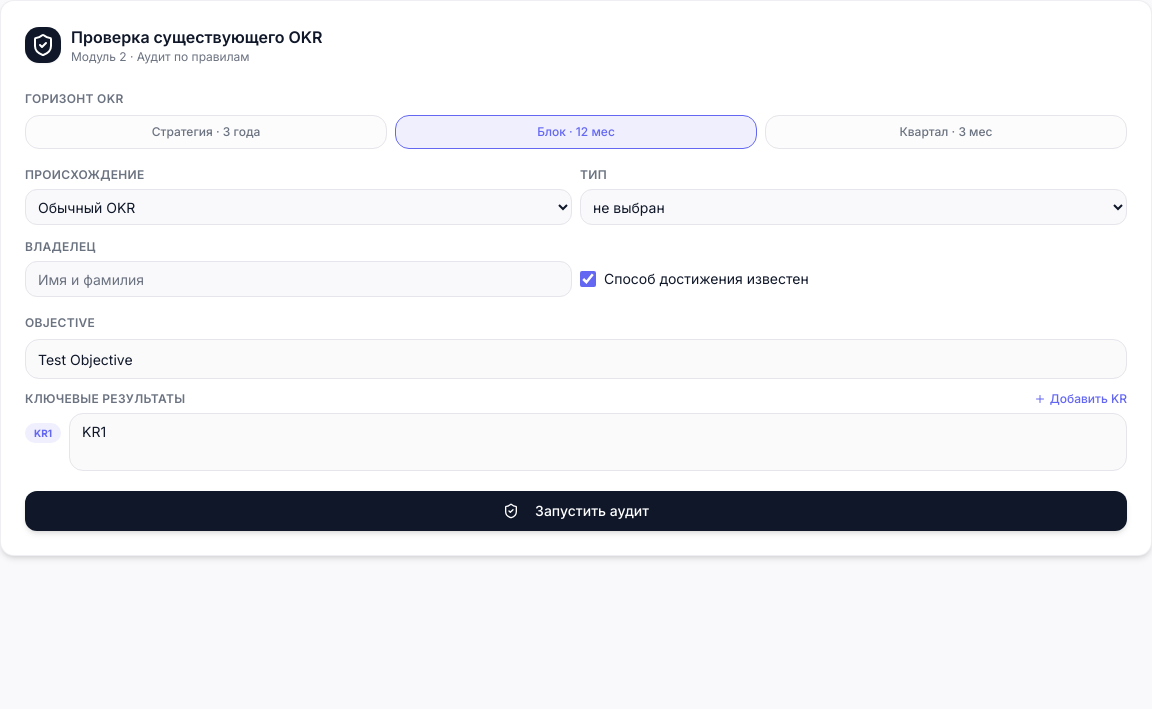
Scenario: OkrValidator (Module 2) › рендерит warning-баннер при audit_unreliable=true
The image size is (1152, 709).
Click the button "Запустить аудит" at (576, 511), box [25,491,1127,531]
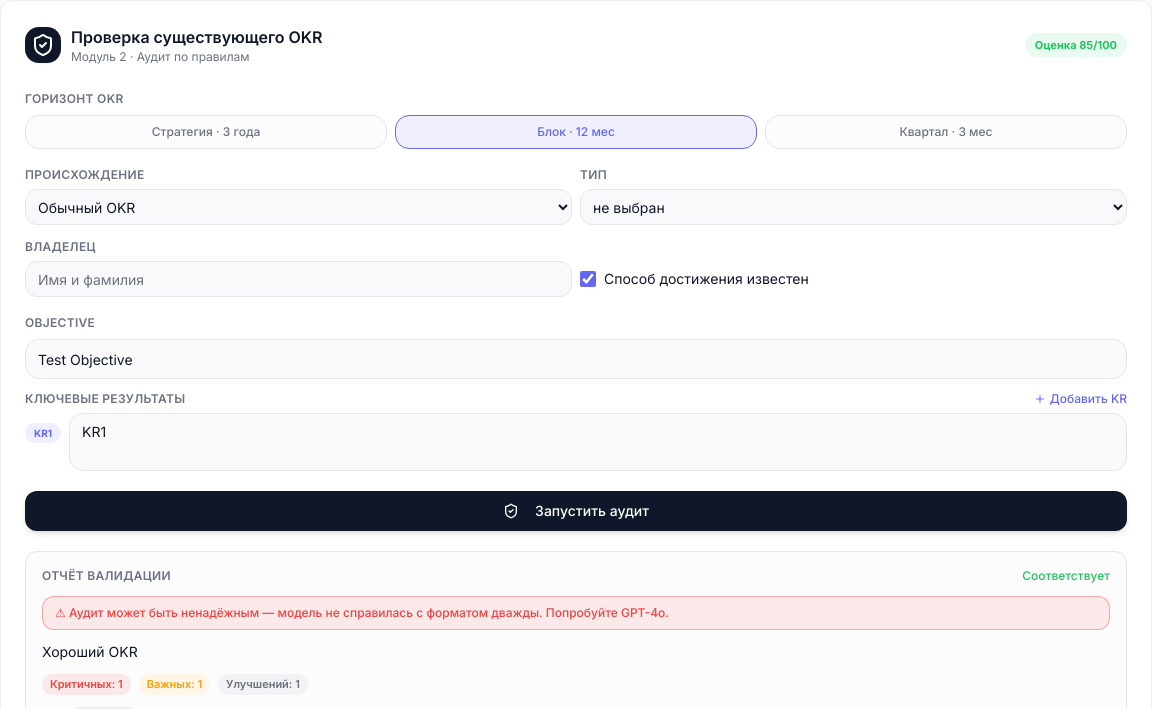
Expected: the message with test id "audit-unreliable-warning" shows "ненадёжным", [55,605,669,620]
Expected: the message with test id "audit-unreliable-warning" shows "GPT-4o", [55,605,669,620]
